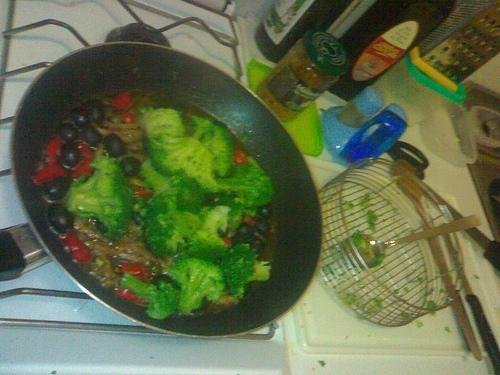broccoli: (62, 155, 134, 240), (148, 134, 220, 196), (168, 256, 226, 316), (121, 270, 181, 320), (220, 244, 272, 300), (184, 205, 231, 265), (190, 116, 236, 176), (216, 164, 274, 209), (139, 157, 180, 199), (143, 108, 186, 144)
